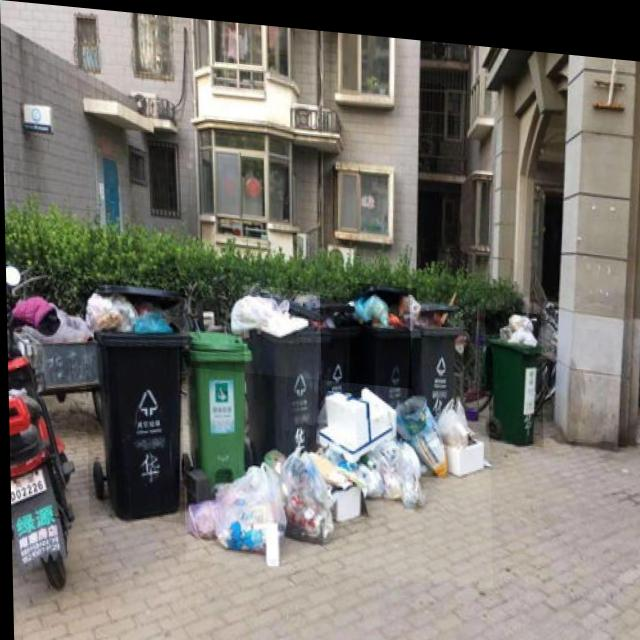garbage: (180, 363, 490, 579)
garbage_bin: (182, 322, 253, 486)
overflow: (83, 277, 188, 520), (241, 280, 329, 463), (347, 275, 417, 398), (483, 299, 542, 437), (409, 292, 463, 410), (318, 289, 359, 399)
